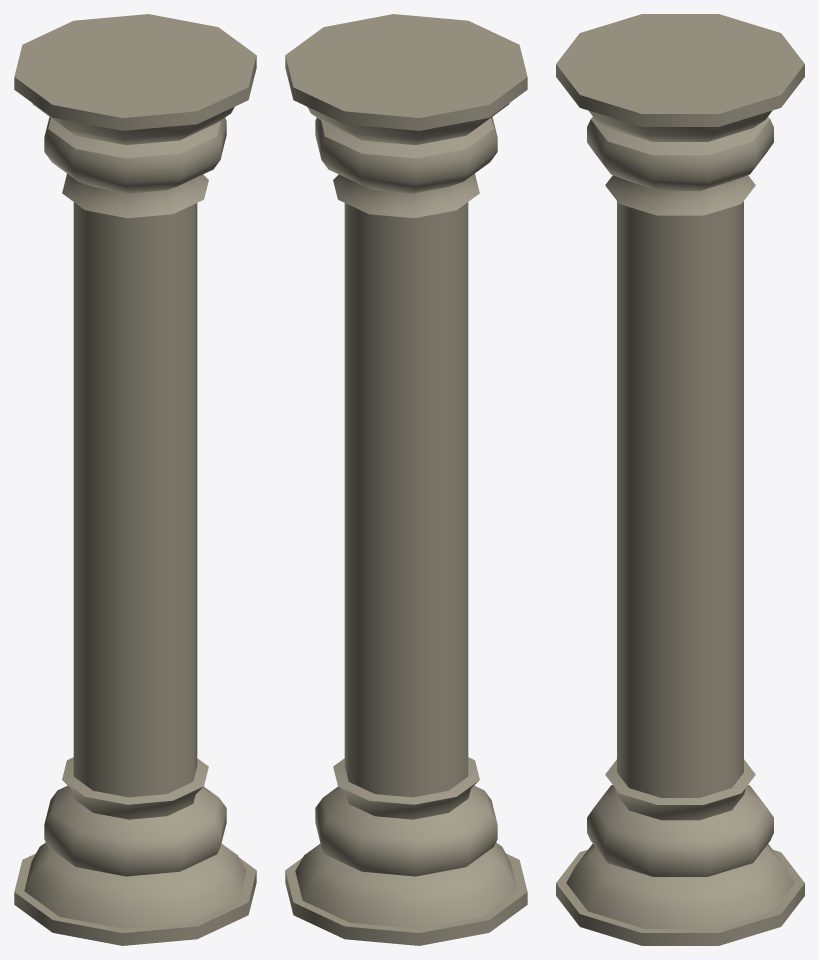
File: Column_Round3.gltf
3 views of the same model, side by side, from view 1: azimuth 30°, elevation 25°; view 2: azimuth 150°, elevation 25°; view 3: azimuth 270°, elevation 25° (orthographic).
Parts seen in each view (by area): view 1: Column_Round3; view 2: Column_Round3; view 3: Column_Round3.
Part boxes in pixels (box(x1,y1,x2,y2)): Column_Round3: box(14, 14, 256, 945); Column_Round3: box(285, 14, 527, 945); Column_Round3: box(556, 14, 804, 945).
Bounding box in the file's own units: 1.4 × 5.43 × 1.47.
